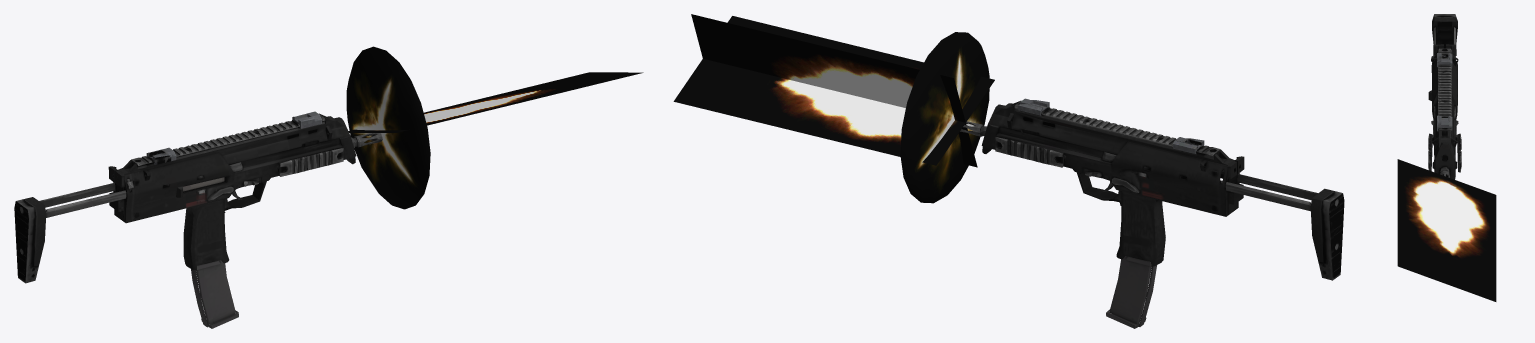
The picture shows the model from 3 angles, left to right: view 1: azimuth 30°, elevation 25°; view 2: azimuth 150°, elevation 25°; view 3: azimuth 270°, elevation 25°; orthographic projection. The views are drawn at different scales.
Parts seen in each view (by area): view 1: MP7_Decimated, MuzzleFlash; view 2: MuzzleFlash, MP7_Decimated; view 3: MuzzleFlash, MP7_Decimated.
Boxes of the visible parts, x1,y1,x2,y2 form: MP7_Decimated: [14, 111, 382, 328]; MuzzleFlash: [346, 46, 643, 209]; MuzzleFlash: [673, 14, 994, 203]; MP7_Decimated: [960, 98, 1344, 328]; MuzzleFlash: [1397, 159, 1496, 301]; MP7_Decimated: [1428, 14, 1461, 179].
Bounding box in the file's own units: 1.03 × 0.375 × 0.2486.
2 materials, 2 textured.
